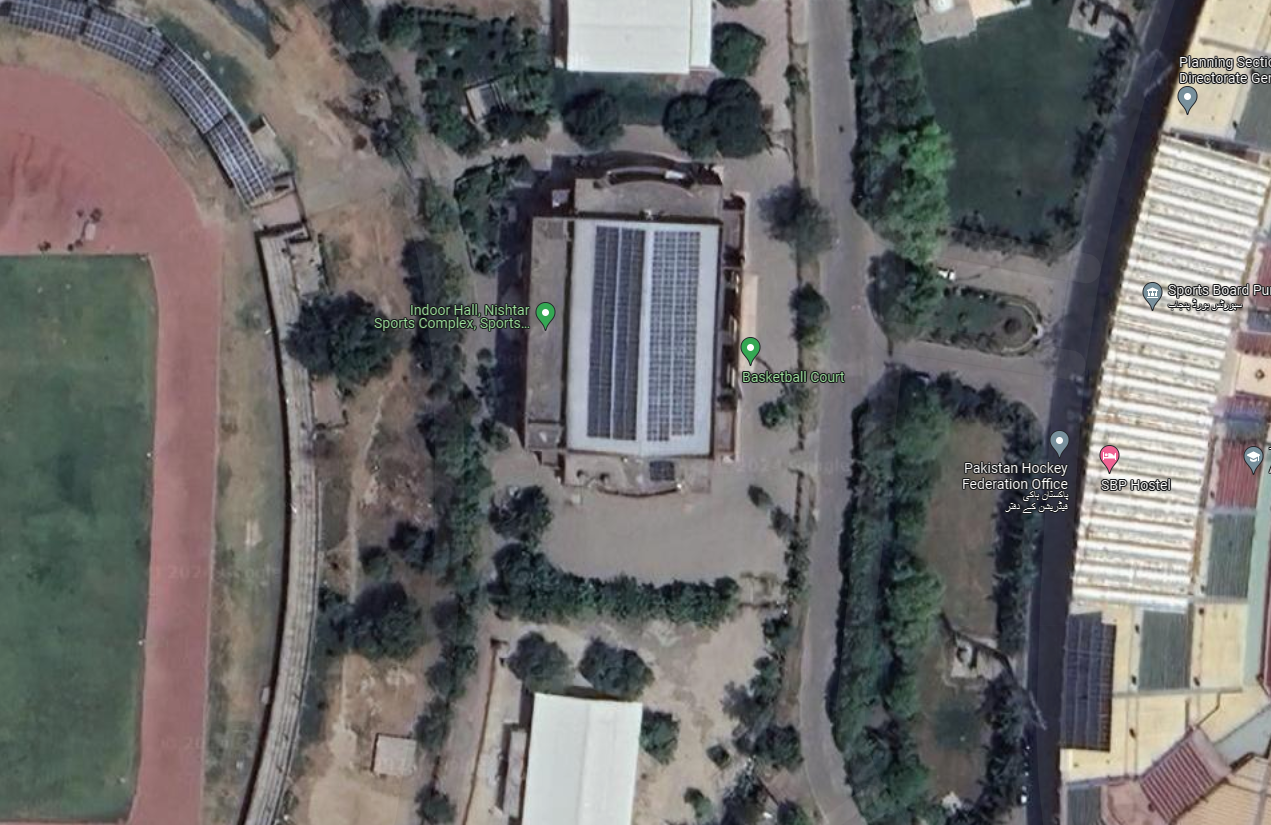solar-panel: (584, 218, 703, 436), (1068, 612, 1112, 749), (209, 114, 273, 198), (170, 51, 228, 136), (90, 11, 159, 68), (9, 1, 80, 35)
